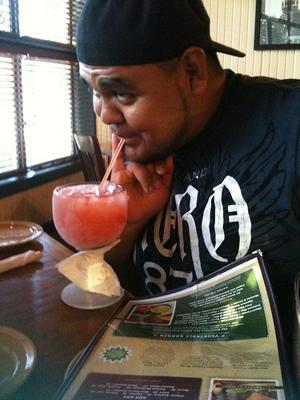person: (76, 3, 300, 387)
